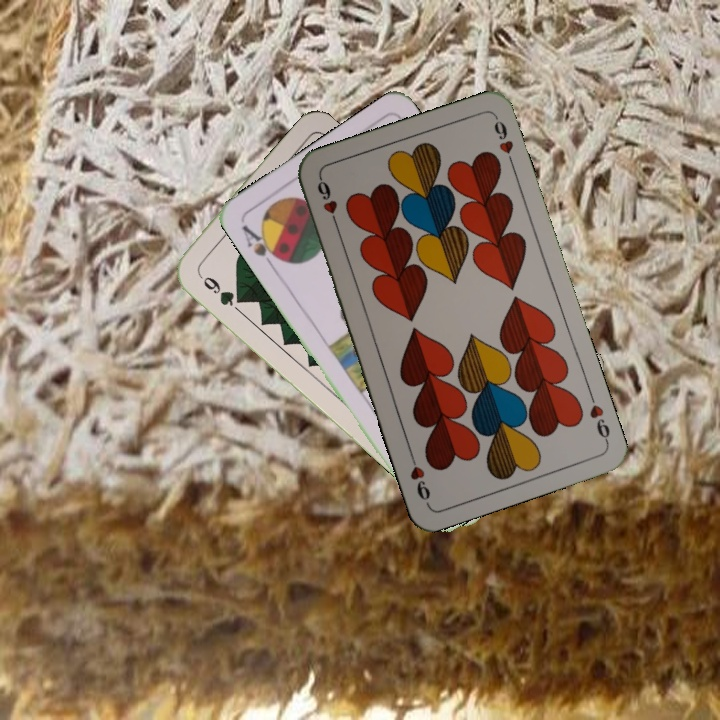G9: (194, 269, 248, 309)
H9: (313, 173, 342, 231), (585, 400, 613, 446)
SA: (237, 220, 286, 271)
